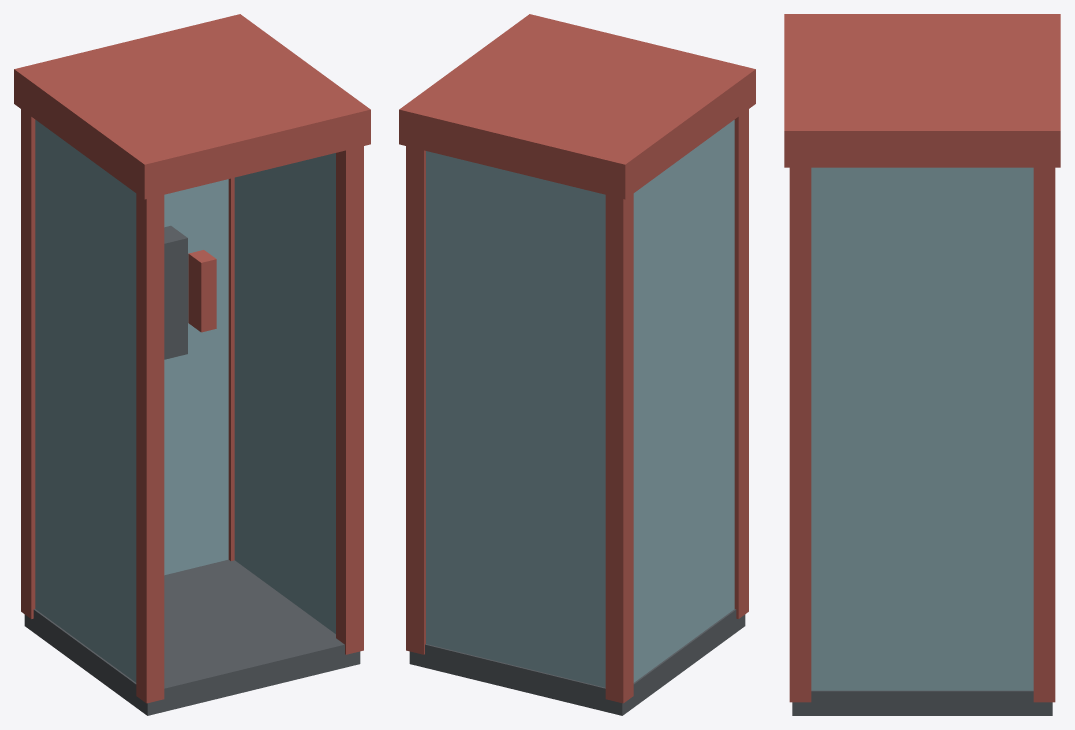
Rendered from phone_booth.glb.
3 renders of one model, left to right at view 1: azimuth 30°, elevation 25°; view 2: azimuth 150°, elevation 25°; view 3: azimuth 270°, elevation 25°, orthographic. The views are drawn at different scales.
Parts seen in each view (by area): view 1: side_8, side_9, roof_2, base_1, back_7, post_3, post_5, post_4, phone_10, post_6, handset_11; view 2: back_7, side_8, roof_2, post_4, post_6, base_1, post_3; view 3: side_9, roof_2, post_5, post_6, base_1.
Part boxes in pixels (left/top/right/bottom): side_8: left=35, top=120, right=136, bottom=682; side_9: left=234, top=153, right=335, bottom=633; roof_2: left=14, top=14, right=370, bottom=199; base_1: left=24, top=559, right=360, bottom=715; back_7: left=164, top=179, right=228, bottom=575; post_3: left=136, top=193, right=164, bottom=703; post_5: left=336, top=146, right=363, bottom=654; post_4: left=21, top=109, right=35, bottom=618; phone_10: left=164, top=225, right=187, bottom=359; post_6: left=228, top=177, right=234, bottom=560; handset_11: left=188, top=250, right=216, bottom=332; back_7: left=426, top=151, right=605, bottom=687; side_8: left=633, top=120, right=734, bottom=682; roof_2: left=399, top=14, right=755, bottom=199; post_4: left=605, top=193, right=633, bottom=703; post_6: left=406, top=146, right=425, bottom=654; base_1: left=409, top=609, right=745, bottom=715; post_3: left=734, top=109, right=748, bottom=618; side_9: left=811, top=167, right=1033, bottom=690; roof_2: left=784, top=14, right=1060, bottom=167; post_5: left=789, top=167, right=811, bottom=702; post_6: left=1033, top=167, right=1055, bottom=702; base_1: left=792, top=690, right=1052, bottom=715.
Size of the model in its own units: 1.02 by 2.39 by 1.02.
